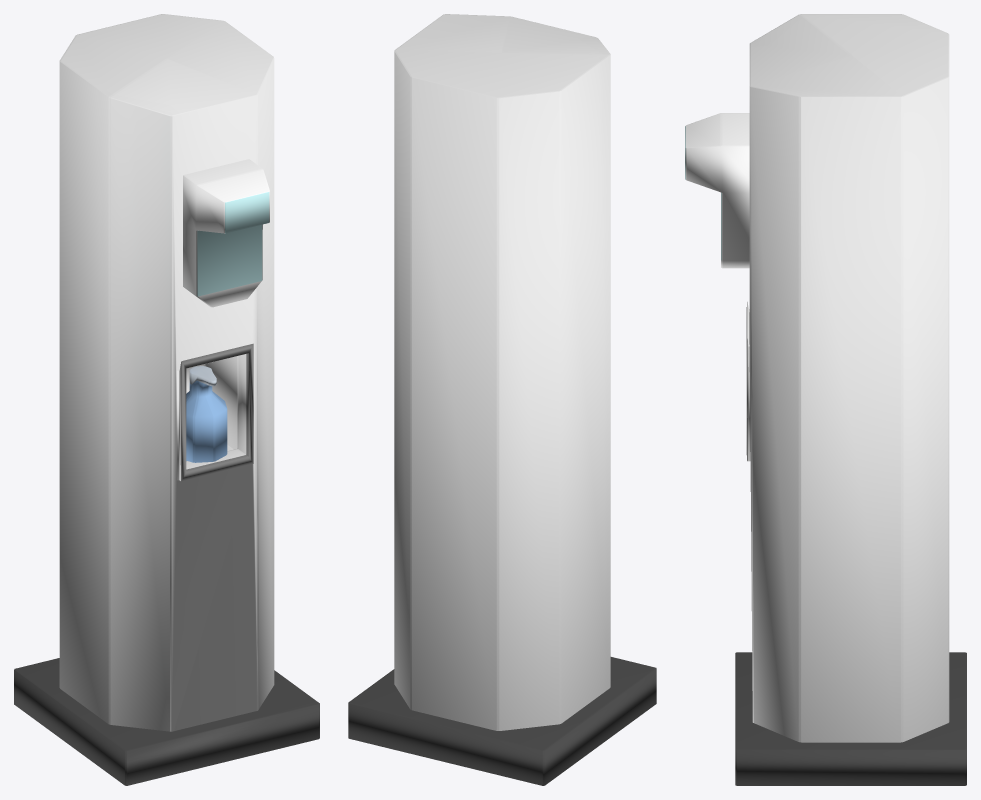
File: AguaBebedoiro.fbx
3 renders of one model, left to right at view 1: azimuth 30°, elevation 25°; view 2: azimuth 150°, elevation 25°; view 3: azimuth 270°, elevation 25°, orthographic. The views are drawn at different scales.
Parts seen in each view (by area): view 1: Alcool MM; view 2: Alcool MM; view 3: Alcool MM.
Part boxes in pixels (x1=…): Alcool MM: x1=14, y1=14, x2=319, y2=785; Alcool MM: x1=348, y1=14, x2=656, y2=785; Alcool MM: x1=685, y1=14, x2=966, y2=785.
Size of the model in its own units: 144 by 469 by 175.
